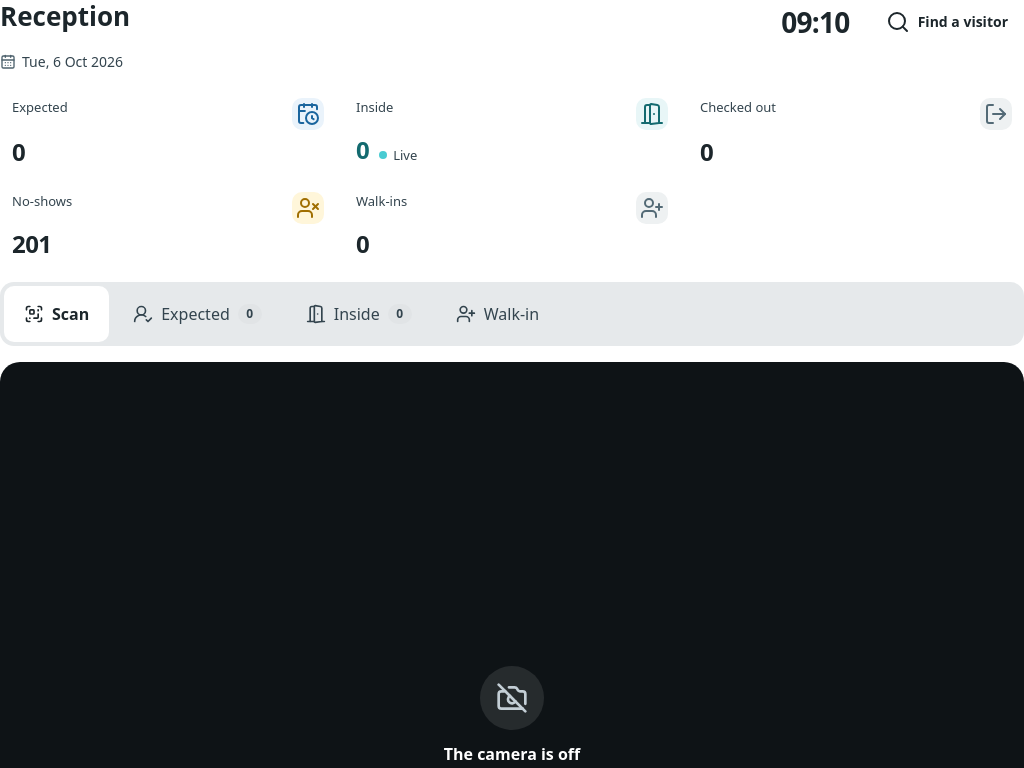
Test: Find a visitor › adds no note about late visitors while today’s no-shows are not all known here
Click the button "Find a visitor": (947, 22) 870,0 -> 1023,44
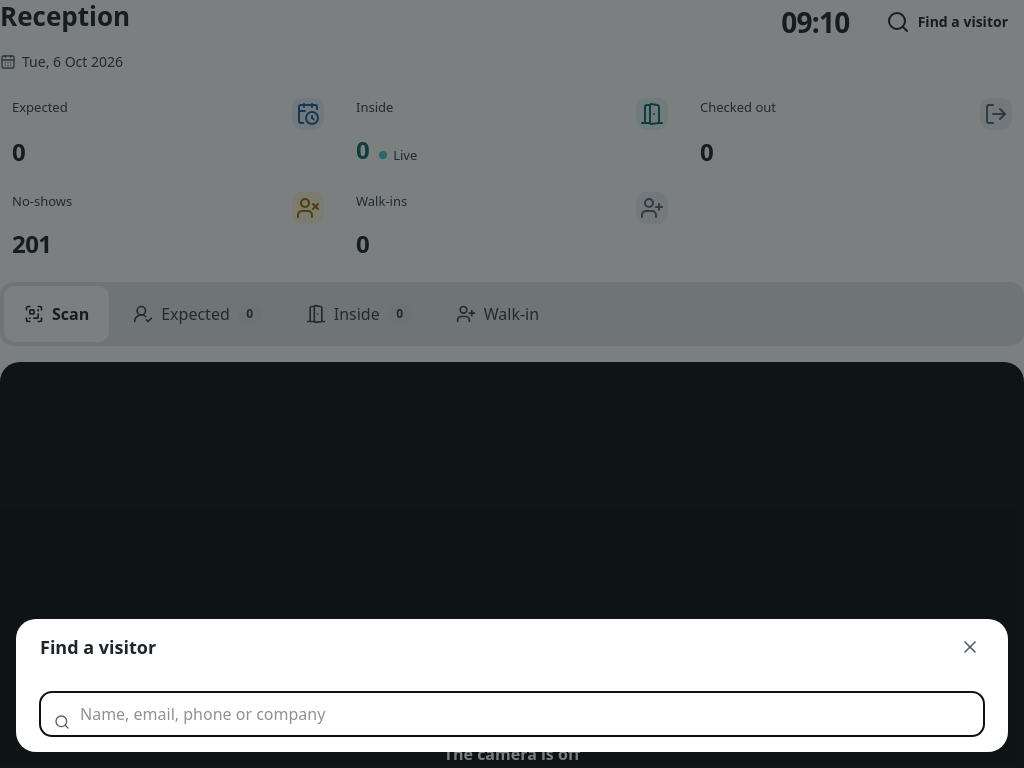
In the search field named "Find a visitor": (512, 714) 40,692 -> 984,736, type "eli"
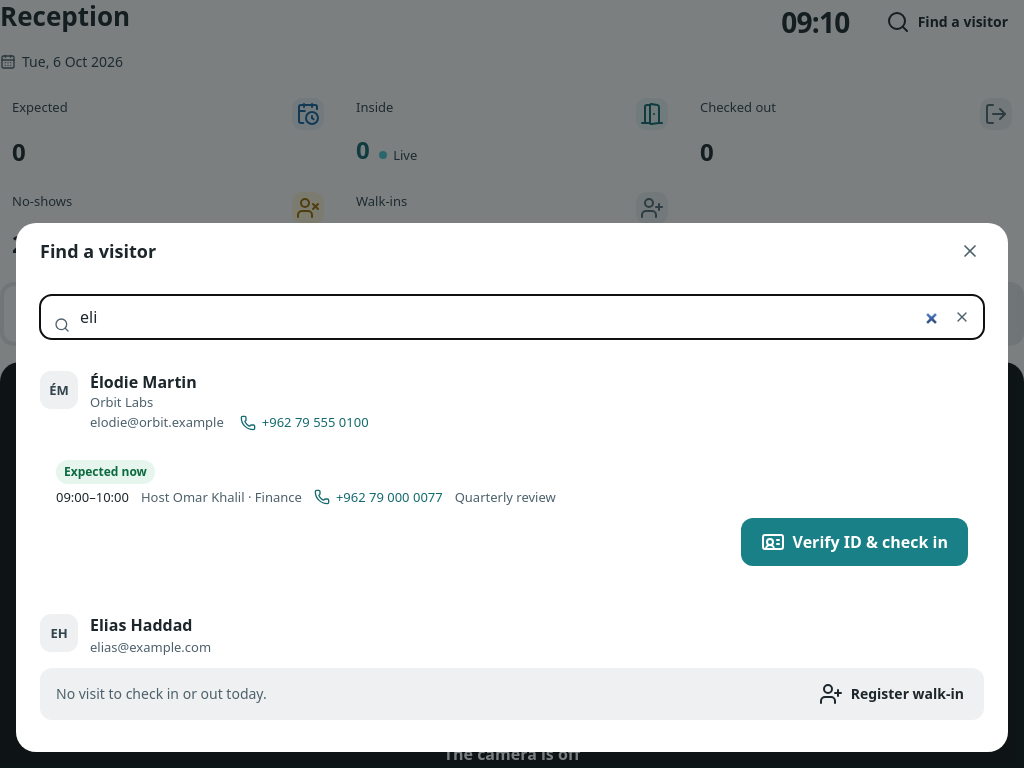
Expected: the element named "Visitor search results" does not show "No-shows today", 40,355 -> 984,736
Result: the text "No visit to check in or out today." is shown at 56,684 -> 267,704
Result: the button "Register walk-in" is shown at 803,672 -> 980,716
